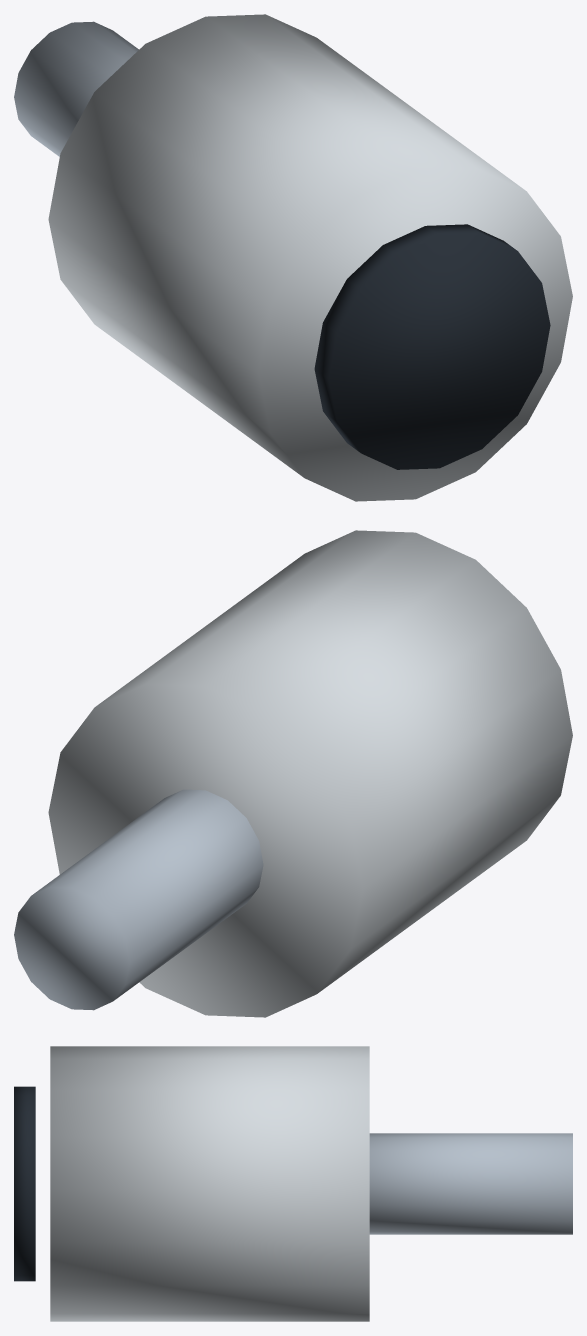
File: flame.glb
3 renders of one model, top to bottom at view 1: azimuth 30°, elevation 25°; view 2: azimuth 150°, elevation 25°; view 3: azimuth 270°, elevation 25°, orthographic. The views are drawn at different scales.
Parts seen in each view (by area): view 1: Explosion proof head, Infrared optical window, Articulated bracket; view 2: Explosion proof head, Articulated bracket; view 3: Explosion proof head, Articulated bracket, Infrared optical window.
Boxes of the visible parts, left/top/right/bottom form: Explosion proof head: left=48, top=14, right=572, bottom=501; Infrared optical window: left=314, top=224, right=550, bottom=469; Articulated bracket: left=14, top=21, right=138, bottom=156; Explosion proof head: left=48, top=530, right=572, bottom=1017; Articulated bracket: left=14, top=789, right=263, bottom=1010; Explosion proof head: left=50, top=1046, right=369, bottom=1321; Articulated bracket: left=369, top=1133, right=572, bottom=1234; Infrared optical window: left=14, top=1086, right=35, bottom=1281.
Size of the model in its own units: 0.19 by 0.19 by 0.385.
